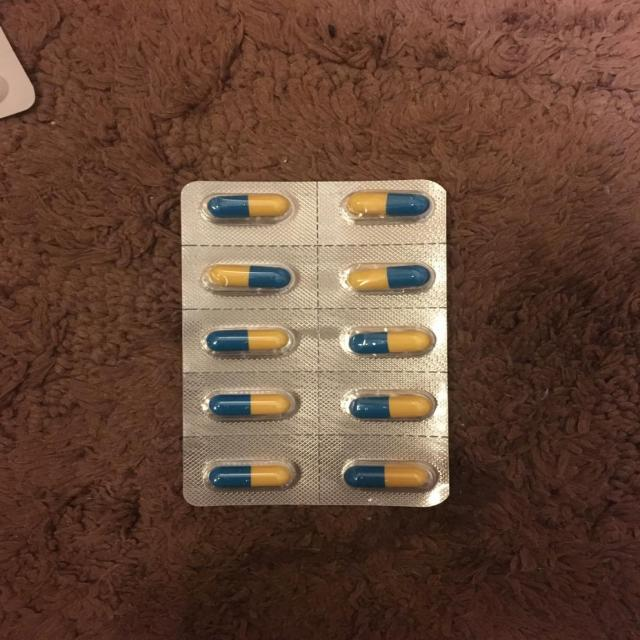Pill: (190, 257, 305, 301), (198, 451, 306, 495), (332, 186, 439, 229), (192, 189, 305, 228), (334, 456, 443, 496), (195, 323, 307, 361), (334, 258, 445, 296), (192, 385, 306, 422), (334, 325, 440, 363), (337, 388, 442, 426)
